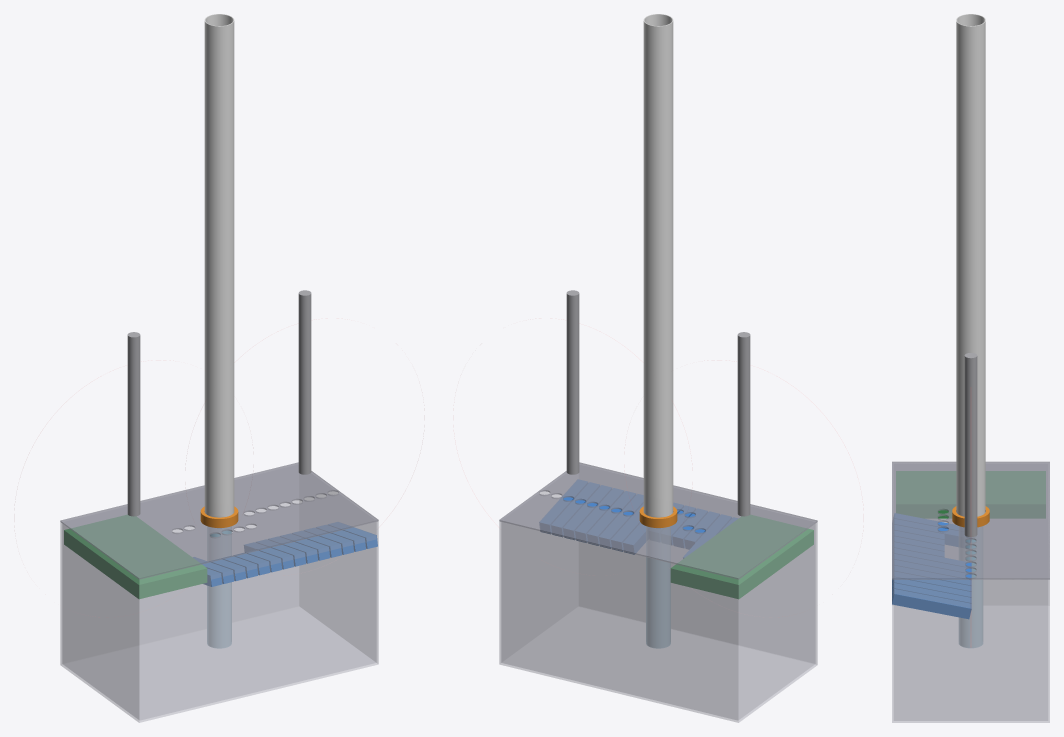
The picture shows the model from 3 angles, left to right: view 1: azimuth 30°, elevation 25°; view 2: azimuth 150°, elevation 25°; view 3: azimuth 270°, elevation 25°; orthographic projection.
Parts seen in each view (by area): view 1: tank, lid_pick_holes, growing_pipe, seedling_tray, pod_rows, track_pipes_A_B, return_drop; view 2: tank, lid_pick_holes, growing_pipe, pod_rows, seedling_tray, track_pipes_A_B, return_drop; view 3: tank, lid_pick_holes, growing_pipe, pod_rows, seedling_tray, track_pipes_A_B, return_drop, socket.
Part boxes in pixels (x1,y1,x2,y2): tank: [60, 464, 378, 722]; lid_pick_holes: [60, 462, 378, 579]; growing_pipe: [204, 14, 234, 517]; seedling_tray: [64, 515, 207, 599]; pod_rows: [193, 522, 377, 586]; track_pipes_A_B: [127, 290, 311, 516]; return_drop: [207, 527, 231, 648]; tank: [499, 464, 817, 722]; lid_pick_holes: [499, 462, 817, 579]; growing_pipe: [643, 14, 673, 517]; pod_rows: [539, 479, 737, 558]; seedling_tray: [670, 515, 813, 599]; track_pipes_A_B: [566, 290, 750, 516]; return_drop: [646, 527, 670, 648]; tank: [892, 463, 1049, 722]; lid_pick_holes: [892, 461, 1049, 579]; growing_pipe: [956, 14, 985, 516]; pod_rows: [892, 513, 971, 619]; seedling_tray: [896, 471, 1045, 518]; track_pipes_A_B: [964, 353, 977, 536]; return_drop: [959, 527, 982, 647]; socket: [952, 506, 989, 527].
Size of the model in its own units: 1200 by 1800 by 400.
